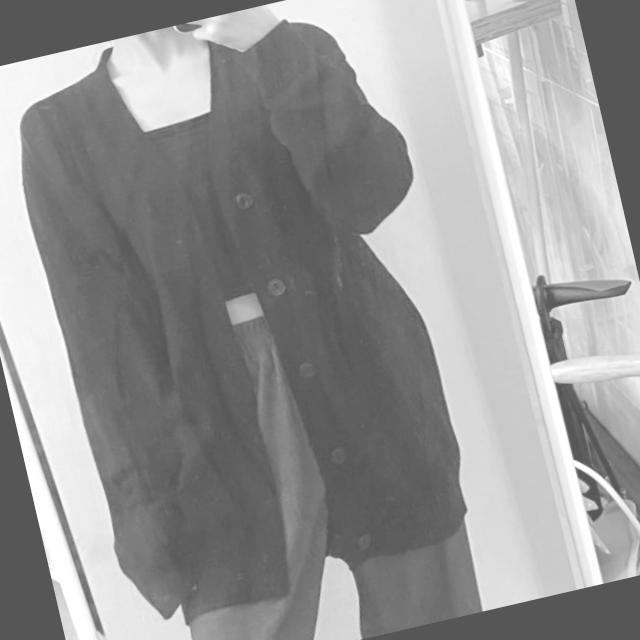cardigan: (0, 0, 499, 635)
slacks: (117, 276, 485, 640)
